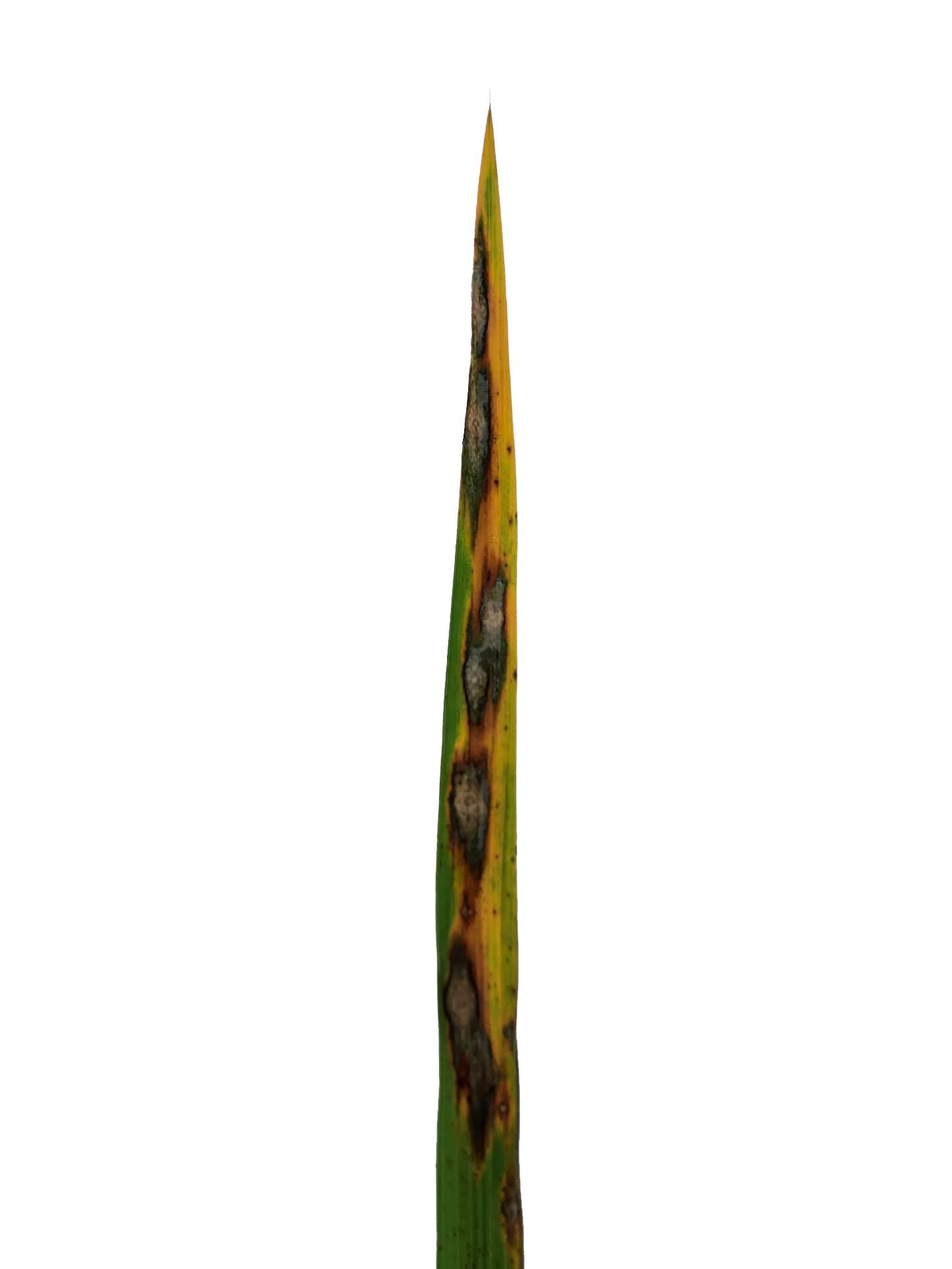Rice blast: (441, 926, 496, 1167), (445, 741, 504, 926), (455, 560, 508, 717), (457, 368, 502, 540), (474, 207, 493, 371)
